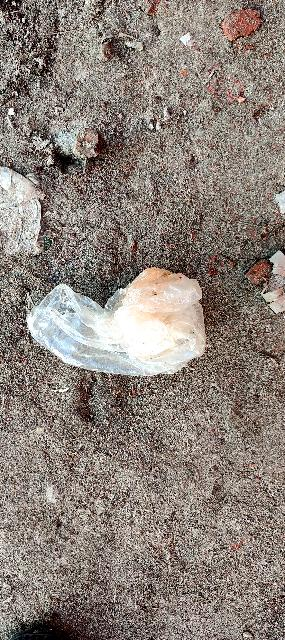polythene: (17, 265, 218, 410)
